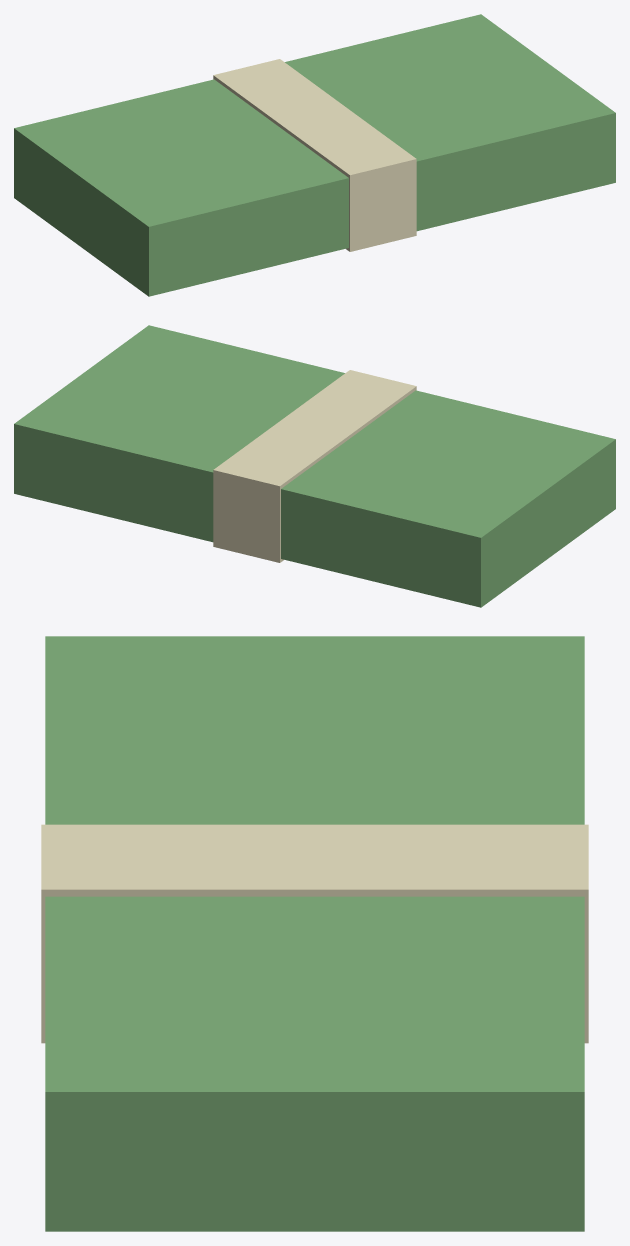
Rendered from cash.fbx.
3 renders of one model, top to bottom at view 1: azimuth 30°, elevation 25°; view 2: azimuth 150°, elevation 25°; view 3: azimuth 270°, elevation 25°, orthographic. The views are drawn at different scales.
Parts seen in each view (by area): view 1: cash; view 2: cash; view 3: cash.
Part boxes in pixels (x1=…): cash: x1=14, y1=14, x2=615, y2=296; cash: x1=14, y1=325, x2=615, y2=607; cash: x1=41, y1=636, x2=588, y2=1231.
Bounding box in the file's own units: 0.56 × 0.088 × 0.284.
